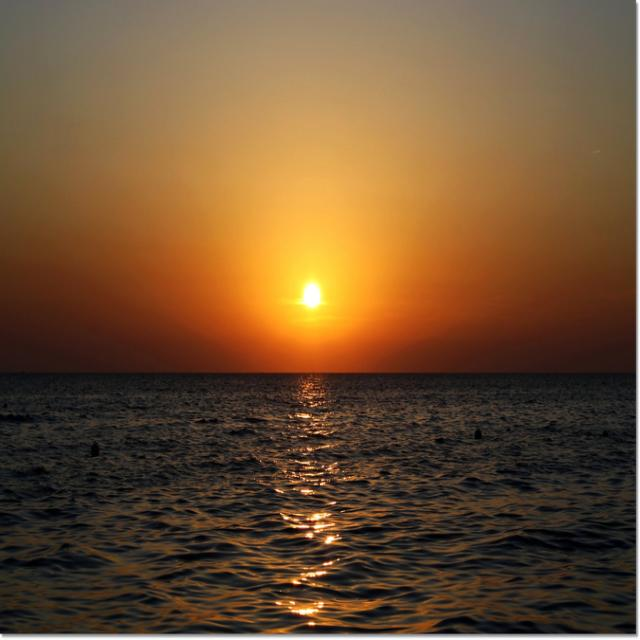no_fire: (147, 177, 460, 408)
